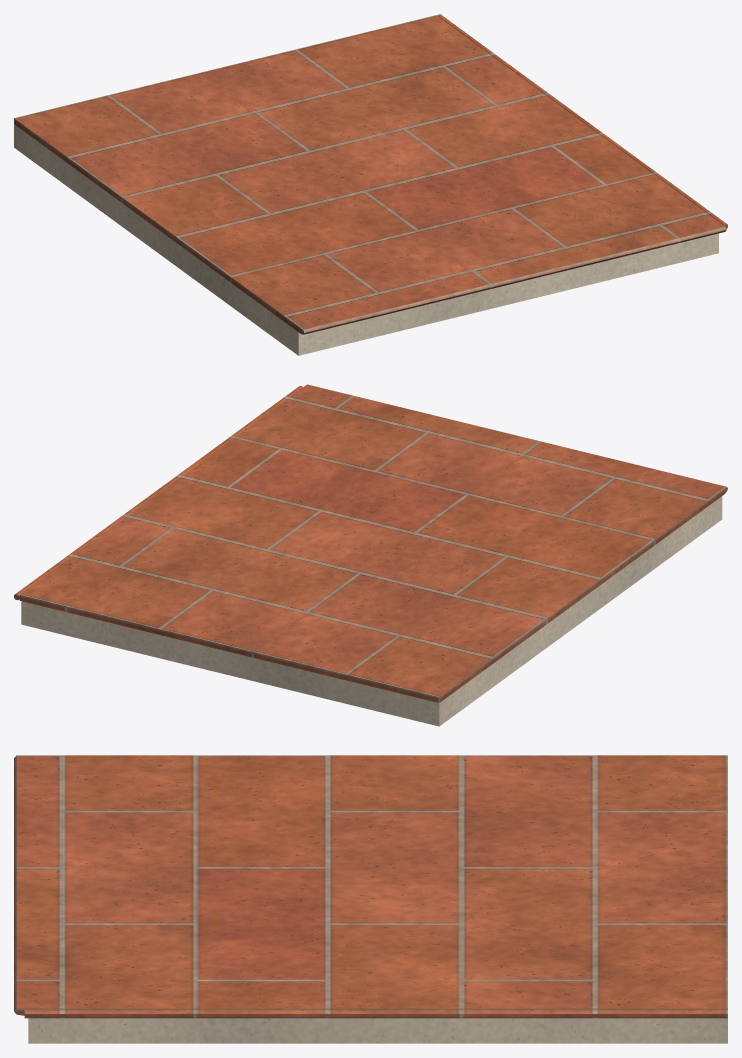
File: arcade_floor_end_r.glb
3 renders of one model, top to bottom at view 1: azimuth 30°, elevation 25°; view 2: azimuth 150°, elevation 25°; view 3: azimuth 270°, elevation 25°, orthographic. The views are drawn at different scales.
Parts seen in each view (by area): view 1: arcade_floor_end_r_saltillo, arcade_floor_end_r_render; view 2: arcade_floor_end_r_saltillo, arcade_floor_end_r_render; view 3: arcade_floor_end_r_saltillo, arcade_floor_end_r_render.
Part boxes in pixels (bbox=[...]): arcade_floor_end_r_saltillo: bbox=[14, 14, 727, 334]; arcade_floor_end_r_render: bbox=[14, 124, 718, 355]; arcade_floor_end_r_saltillo: bbox=[14, 384, 727, 702]; arcade_floor_end_r_render: bbox=[21, 496, 722, 726]; arcade_floor_end_r_saltillo: bbox=[14, 755, 727, 1018]; arcade_floor_end_r_render: bbox=[28, 1018, 727, 1043].
Bounding box in the file's own units: 2.28 × 0.15 × 2.68.
Materials: 2 (2 with a texture image).
